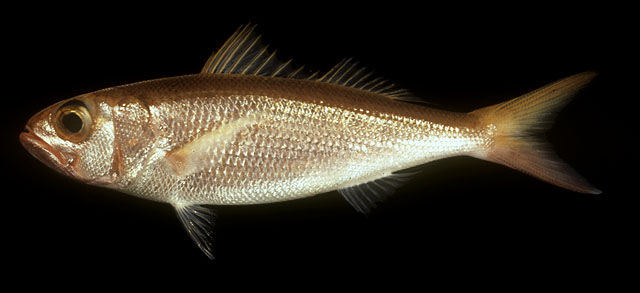fish: (21, 23, 602, 262)
